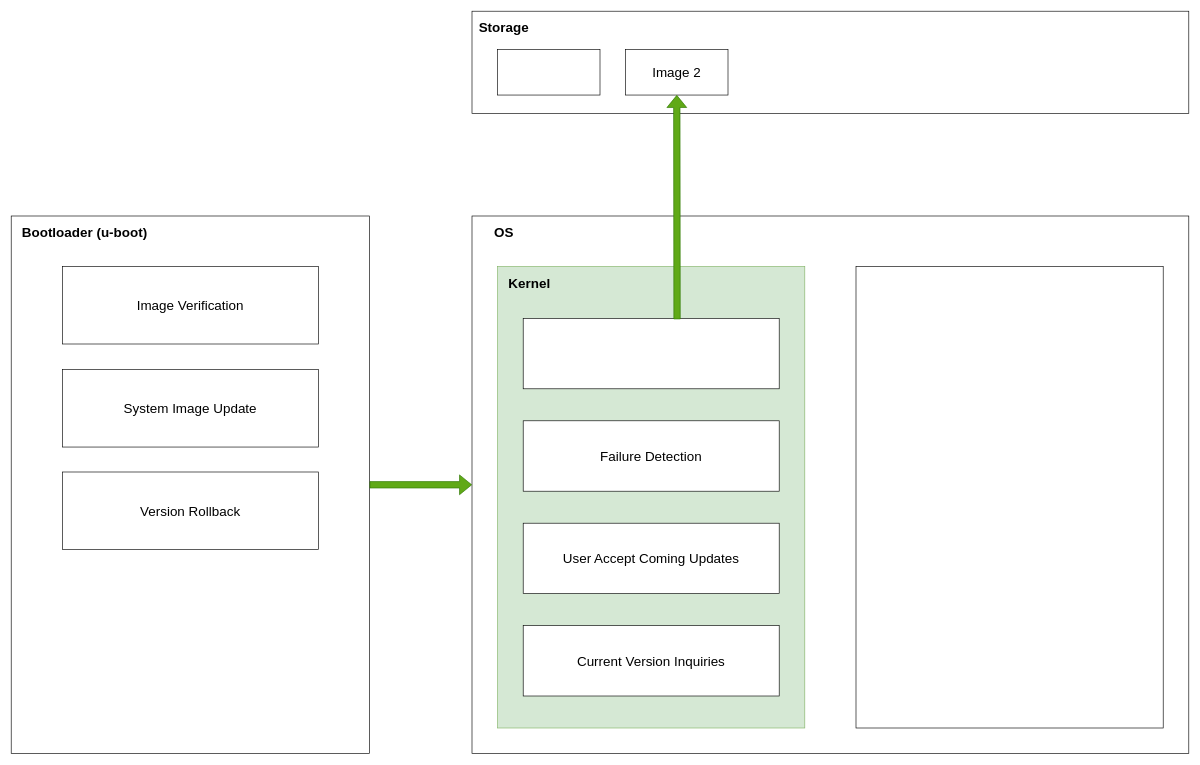
This 1200x765 diagram has some shape labels left out. The shapes that lost their labels are listed below. From the top down, each one's centre as x and y in pixels, then its label:
At pixel 548 72: "Image 1".
At pixel 651 353: "Image Receiving Over Network".
At pixel 1009 497: "User Code".
